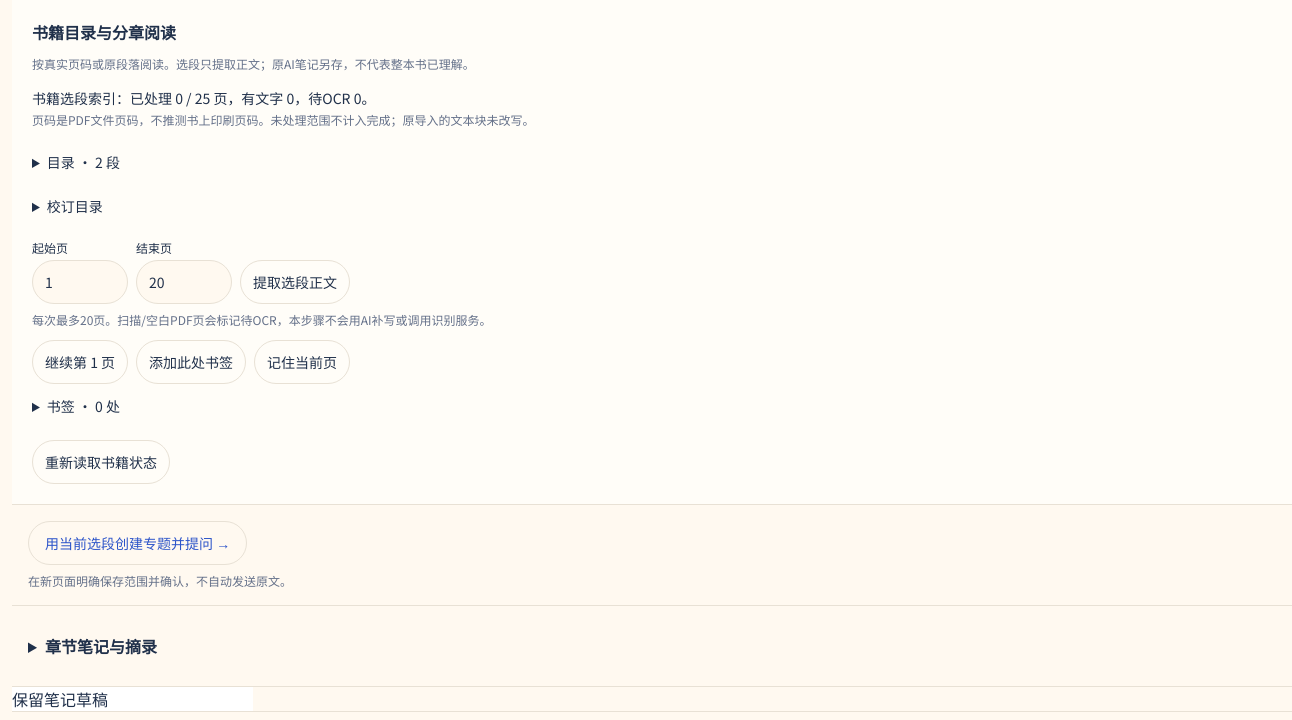
Test: preserves a failed extraction range and reuses the request key on explicit retry
The width and height of the screenshot is (1292, 720).
Expected: the text "书籍选段索引：已处理 0 / 25 页，有文字 0，待OCR 0。" is shown, [32,88,375,108]
Replace the text in the number field named "提取结束页" with "3" at (184, 282), box [136,260,232,304]
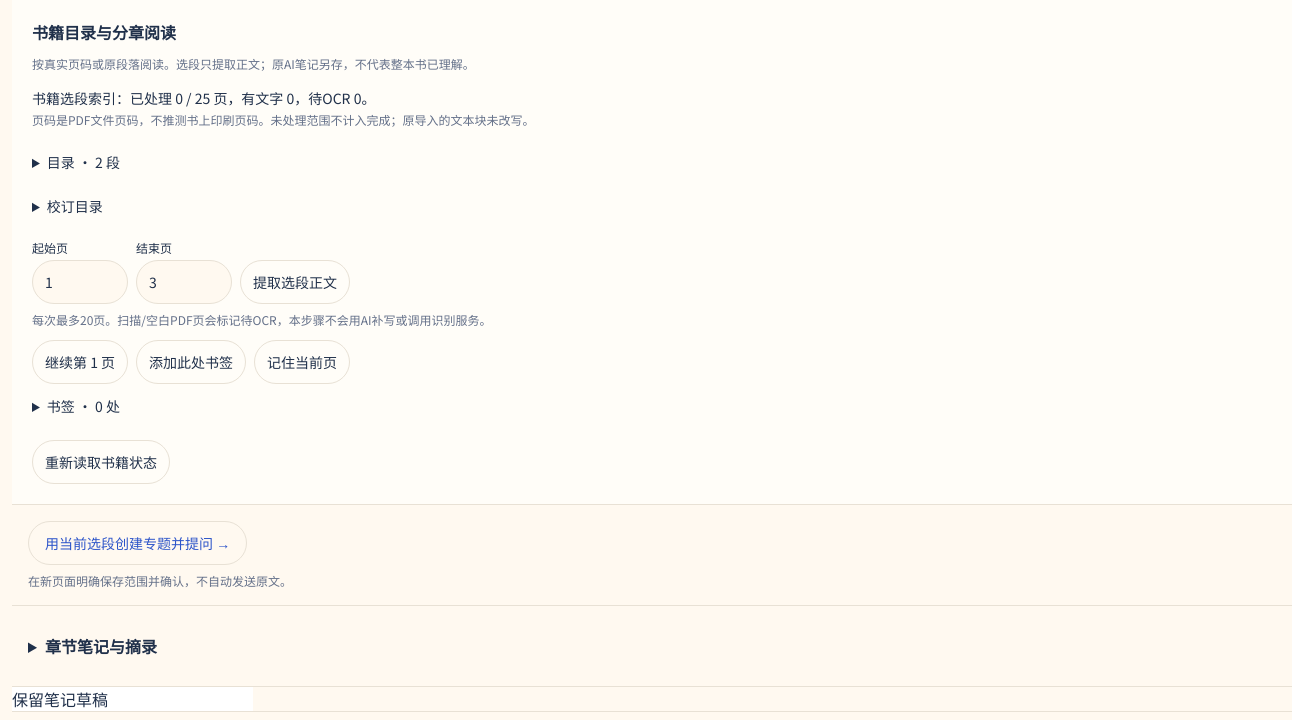
Click the button "提取选段正文" at (295, 282), box [240,260,350,304]
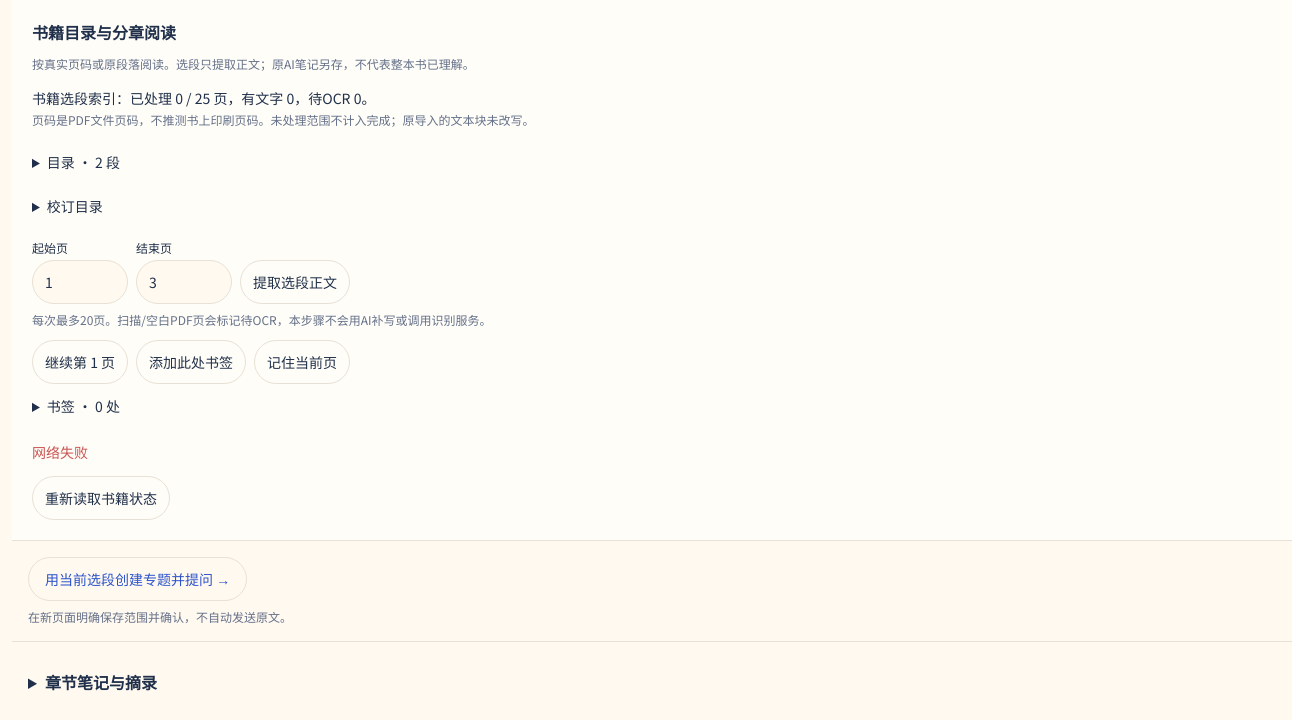
Result: the message "网络失败" is shown at [32,442,88,462]
Click the button "提取选段正文" at (295, 282), box [240,260,350,304]
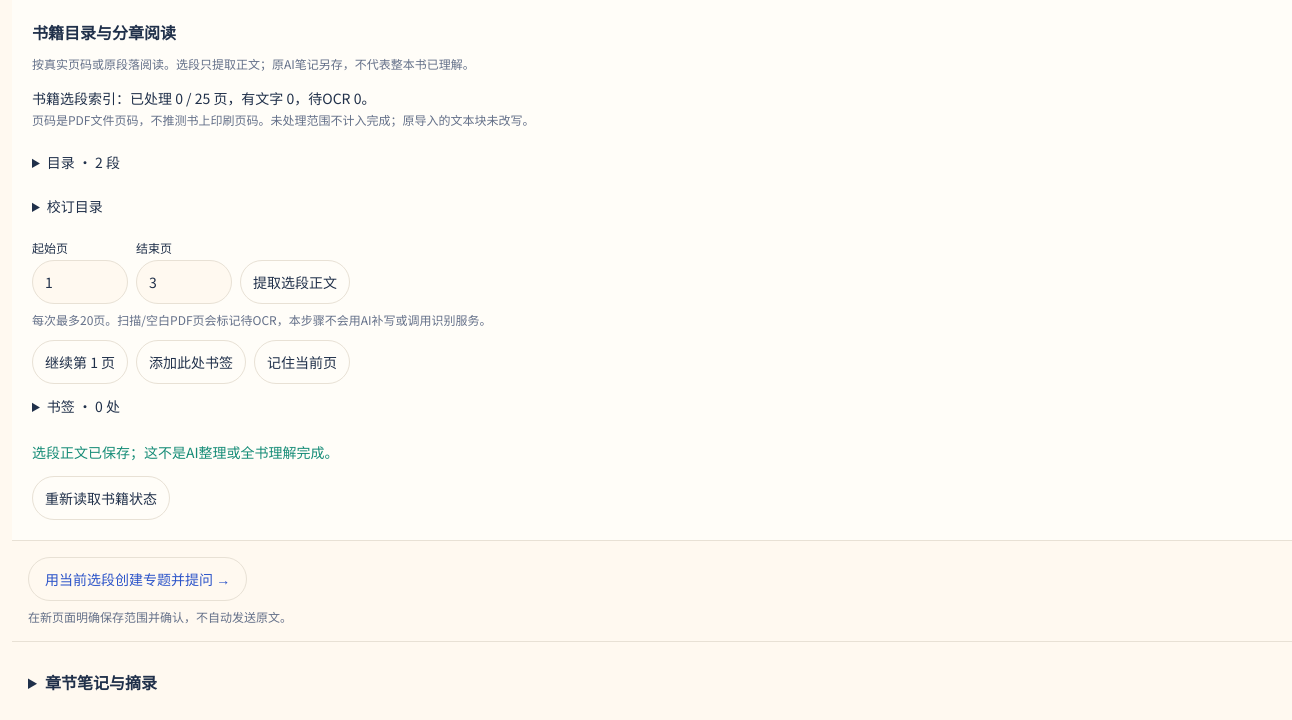
Result: the text "选段正文已保存；这不是AI整理或全书理解完成。" is shown at [32,442,339,462]
